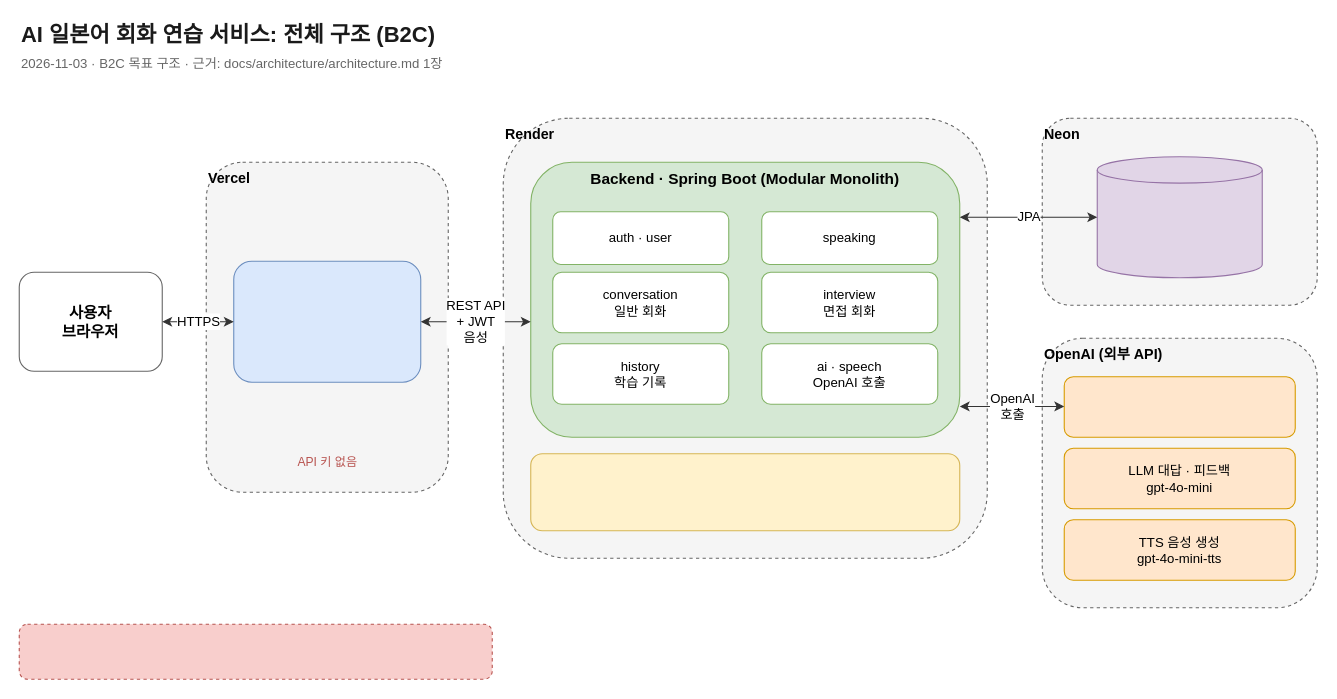
The diagram is 1337 pixels wide and 699 high, and some of its shapes have lost their labels. The centre of each missing label's shape, as x and y in pixels:
"B2C 전환으로 제거: 기관(organization) · Manager · Admin 역할은 LEARNER 하나만 남김" goes at (255,651).
"Frontend React + Vite 화면 · 녹음 · 재생" goes at (327,321).
"PostgreSQL 대화 글자 · 피드백 (음성은 저장 안 함)" goes at (1179,217).
"STT 받아쓰기 gpt-4o-mini-transcribe" goes at (1179,406).
"🔑 OpenAI API 키 · DB 접속 정보 · JWT Secret 개발: .env / 배포: Render 환경변수" goes at (745,492).
